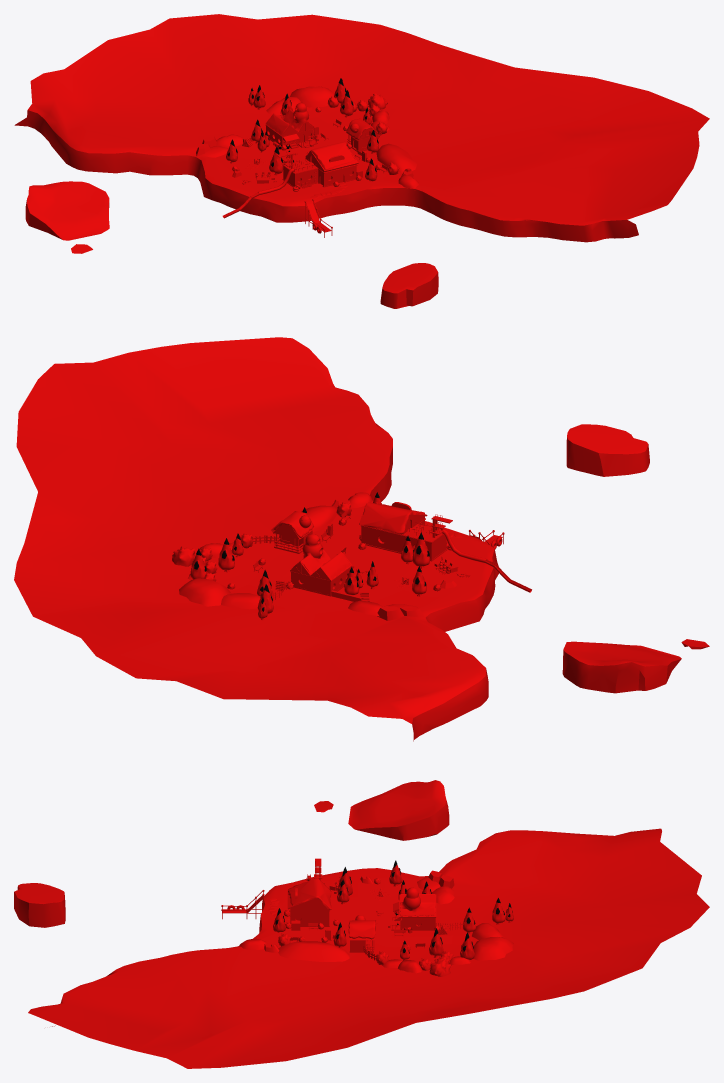
File: Individual_PudgyPort_01.glb
3 views of the same model, one above another, from view 1: azimuth 30°, elevation 25°; view 2: azimuth 150°, elevation 25°; view 3: azimuth 270°, elevation 25° (orthographic). The views are drawn at different scales.
Visible parts, largest first — view 1: Berg, pasted__polySurface129, pasted__Building_FishMarket2Roofs, pasted__Object_PudgyPortRoad, pasted__SnowPatch8, pasted__SnowPatch5; view 2: Berg, pasted__polySurface129, pasted__Building_FishMarket2Roofs, pasted__Object_PudgyPortRoad, pasted__SnowPatch5, pasted__Building_FlatRooftopHouse; view 3: Berg, pasted__polySurface129, pasted__Building_FishMarket2Roofs, pasted__Object_PudgyPortRoad, pasted__SnowPatch8, pasted__SnowPatch5, pasted__Building_House_FlatRoofIgloo1.
Part boxes in pixels (x1,y1,x2,y2): Berg: (14,14,709,308); pasted__polySurface129: (222,142,358,218); pasted__Building_FishMarket2Roofs: (265,102,317,148); pasted__Object_PudgyPortRoad: (306,107,385,178); pasted__SnowPatch8: (376,143,416,172); pasted__SnowPatch5: (290,86,334,107); Berg: (14,337,709,741); pasted__polySurface129: (359,502,531,592); pasted__Building_FishMarket2Roofs: (290,534,353,596); pasted__Object_PudgyPortRoad: (230,514,361,594); pasted__SnowPatch5: (179,578,230,606); pasted__Building_FlatRooftopHouse: (273,523,314,553); Berg: (14,780,709,1068); pasted__polySurface129: (287,858,331,926); pasted__Building_FishMarket2Roofs: (388,887,436,930); pasted__Object_PudgyPortRoad: (280,928,478,947); pasted__SnowPatch8: (278,941,349,961); pasted__SnowPatch5: (473,937,513,960); pasted__Building_House_FlatRoofIgloo1: (348,915,375,939).
Bounding box in the file's own units: 115 × 10.56 × 109.
